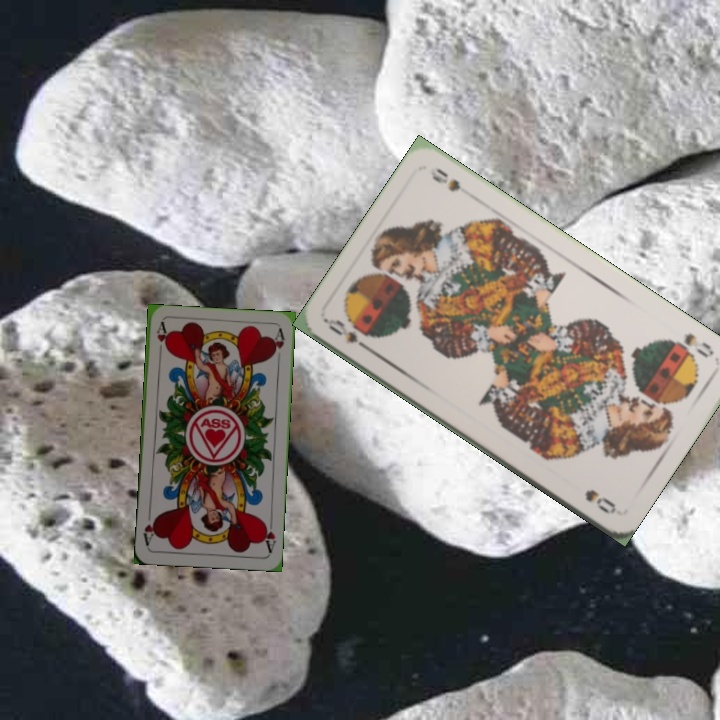HA: (259, 514, 278, 555), (153, 319, 169, 360)
SO: (324, 314, 376, 356), (664, 329, 717, 361)
